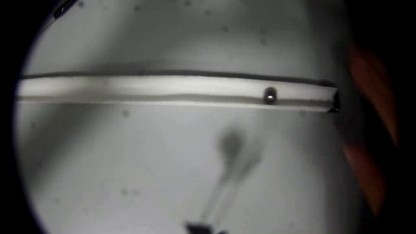gangzhu: (264, 87, 278, 102)
